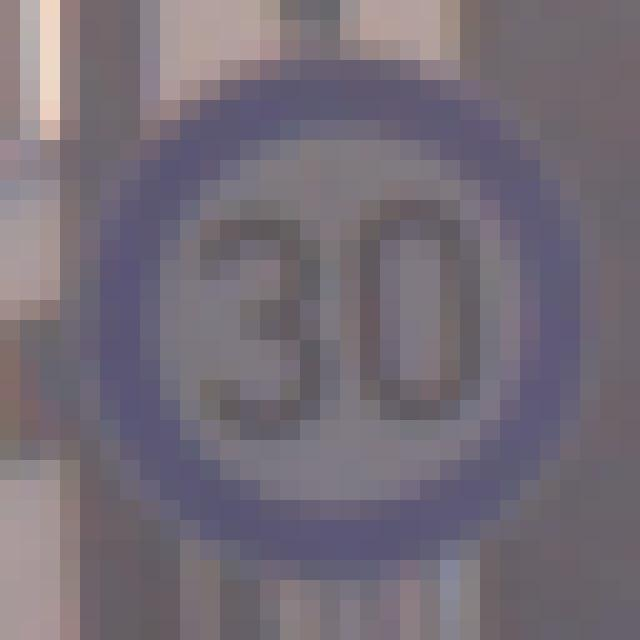SPEED LIMIT 30: (84, 53, 596, 575)
